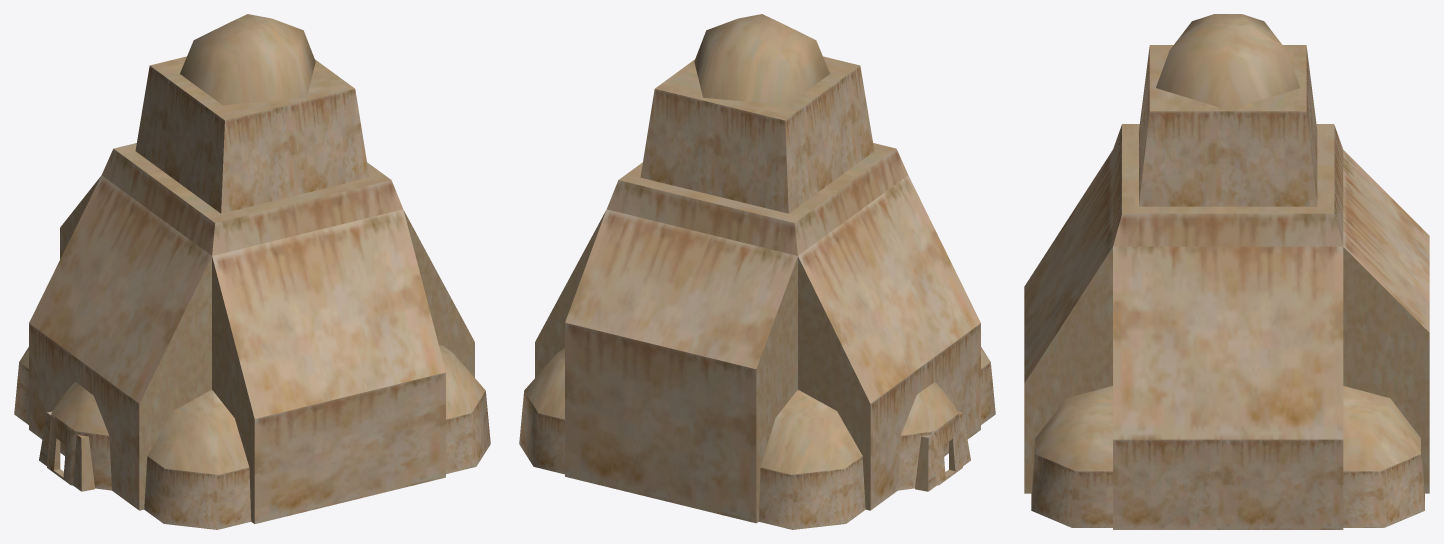
The model's file is thm_tato_imprv_building_s11_r0_mesh_l3.fbx.
3 views of the same model, side by side, from view 1: azimuth 30°, elevation 25°; view 2: azimuth 150°, elevation 25°; view 3: azimuth 270°, elevation 25° (orthographic). The views are drawn at different scales.
Parts seen in each view (by area): view 1: mesh_node; view 2: mesh_node; view 3: mesh_node.
Part boxes in pixels (left/top/right/bottom): mesh_node: left=14, top=14, right=490, bottom=529; mesh_node: left=519, top=14, right=995, bottom=529; mesh_node: left=1024, top=14, right=1429, bottom=529.
Size of the model in its own units: 37.24 by 40.11 by 34.79.
Materials: 1 (1 with a texture image).
